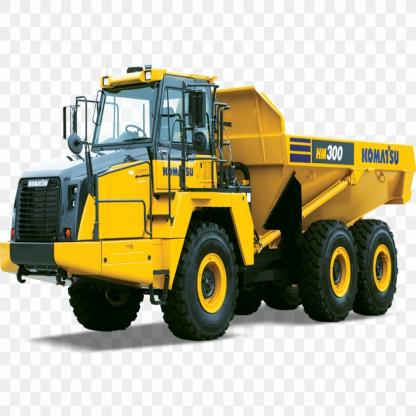dump_truck: (6, 64, 412, 342)
